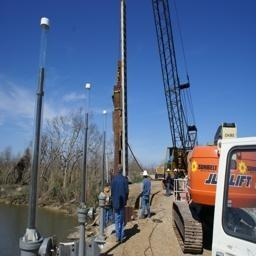hat: (141, 169, 150, 177)
no hat: (113, 164, 124, 175)
no vest: (110, 180, 129, 206), (141, 181, 151, 218)
